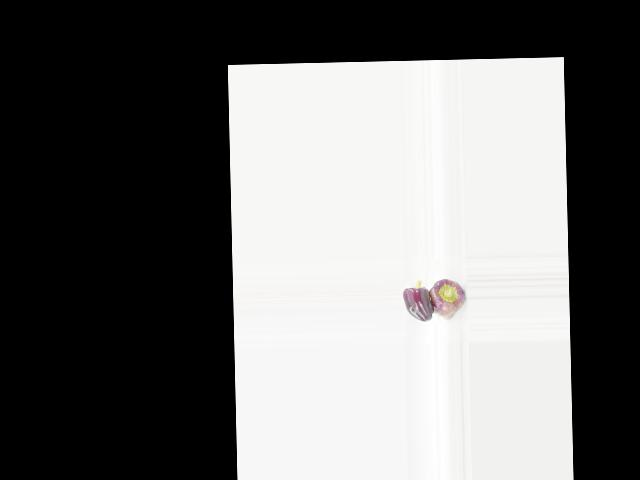bell_pepper: (428, 270, 467, 327)
